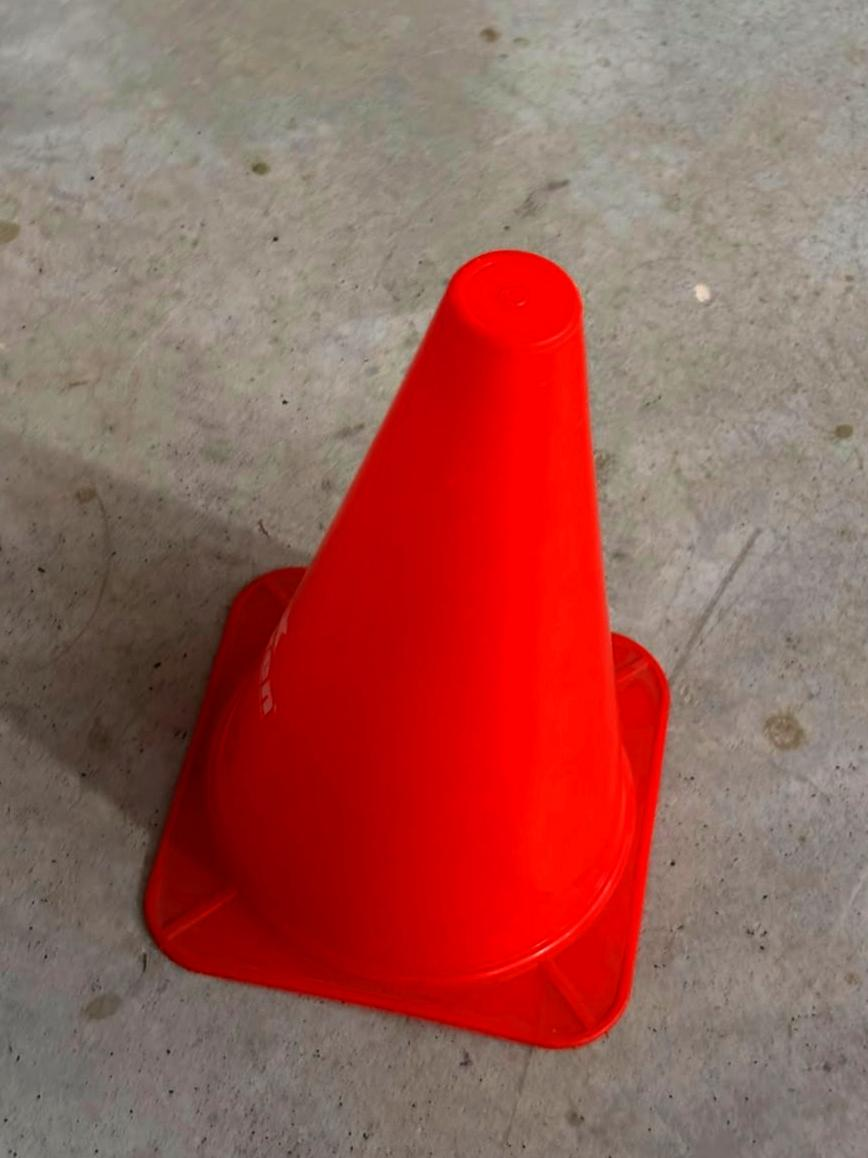0 cone: (145, 251, 668, 1047)
